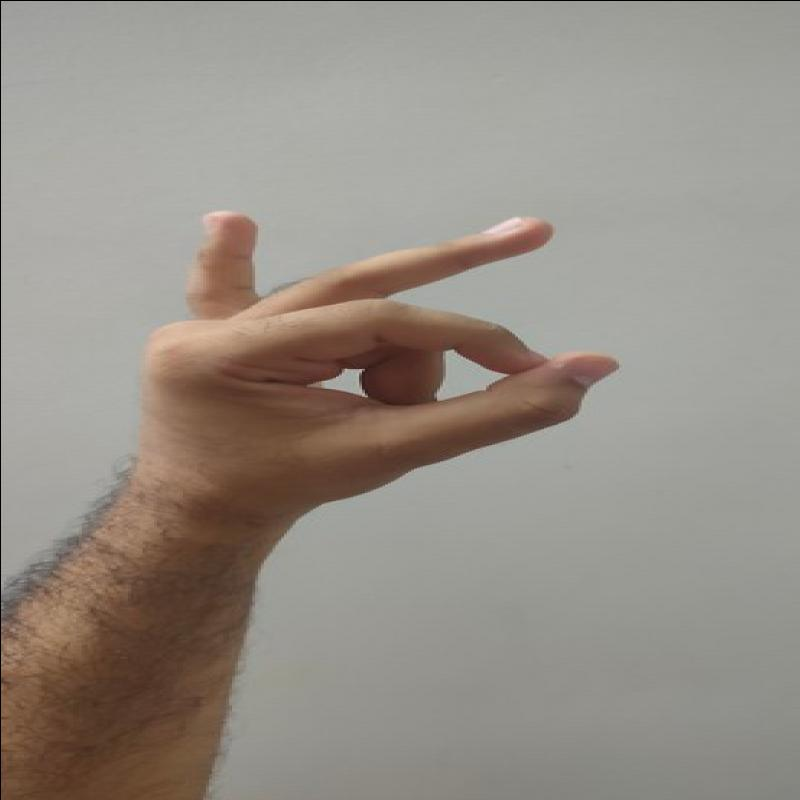Katakam: (123, 191, 640, 507)
